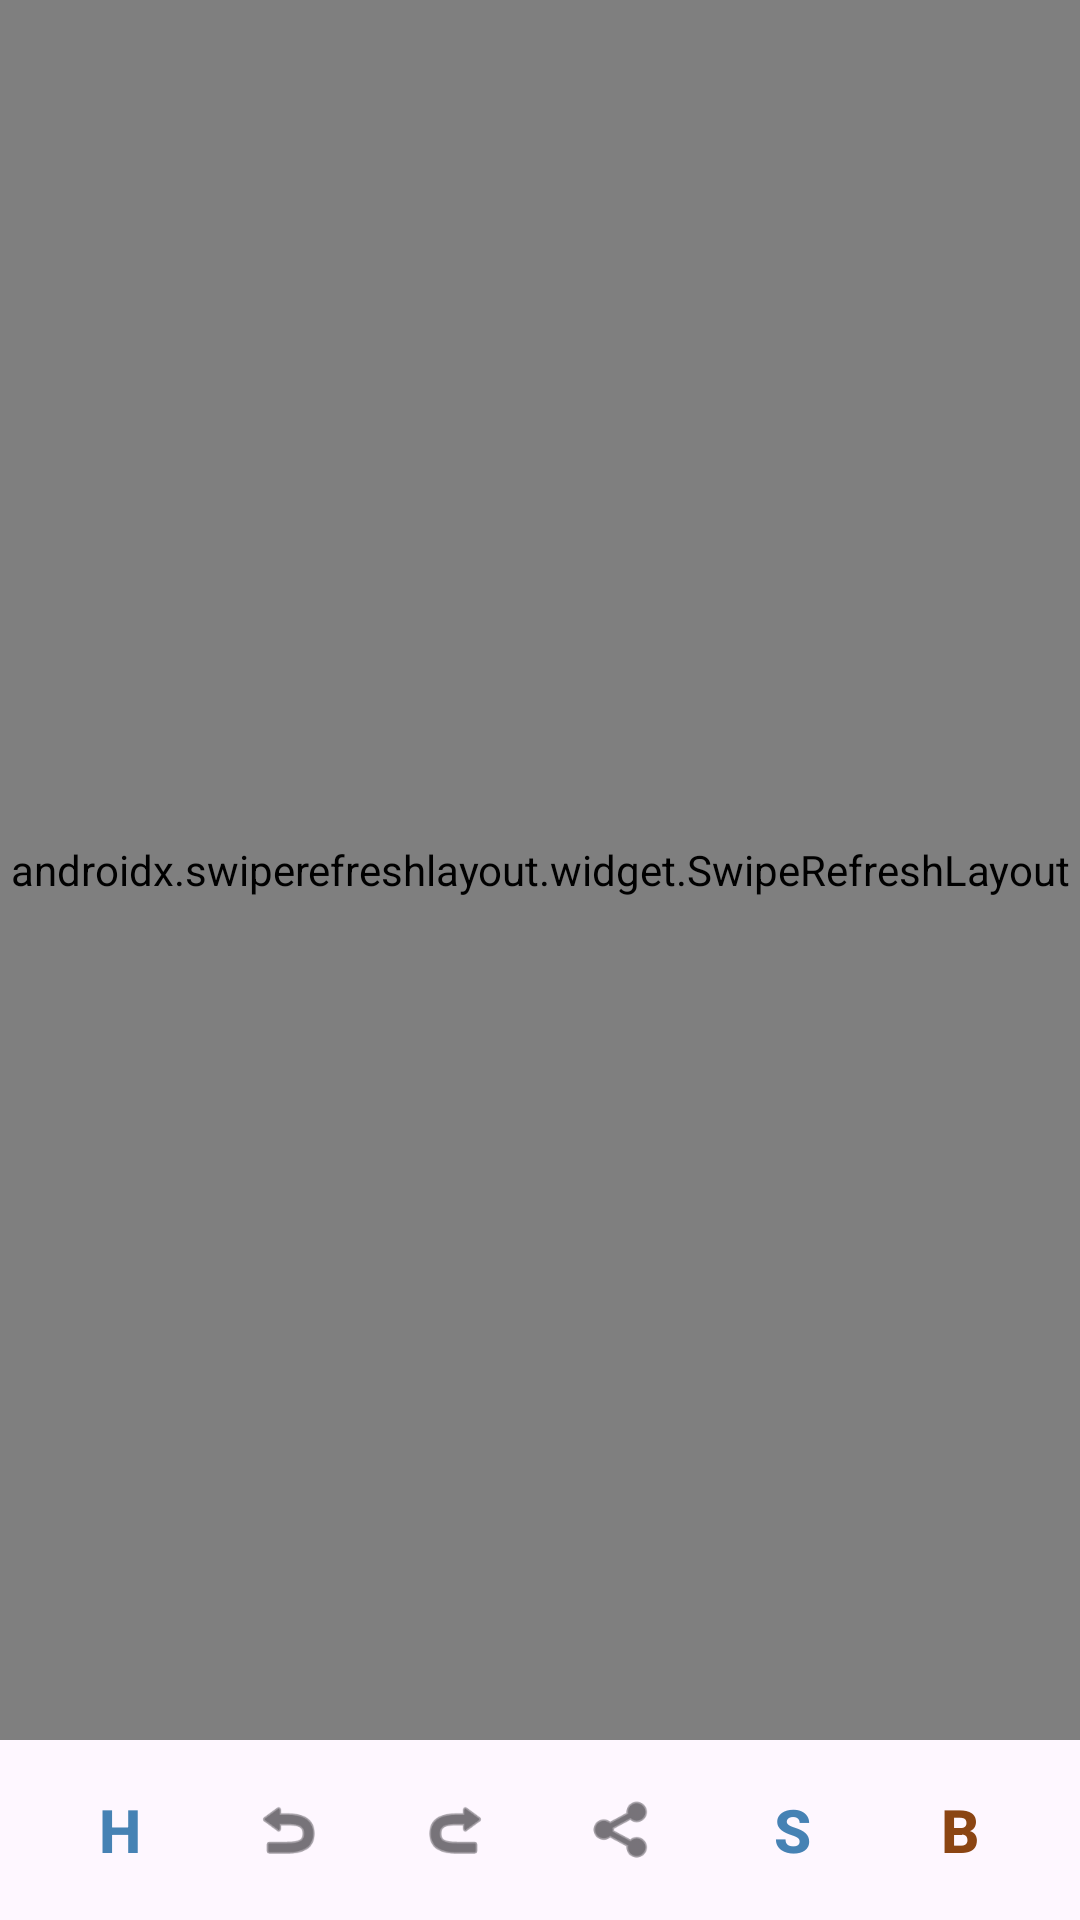

Where to tap for icons on this 1080×1920 app screen, as (x=x, y=y):
뒤로가기: (x=289, y=1830)
페이지 공유: (x=620, y=1829)
